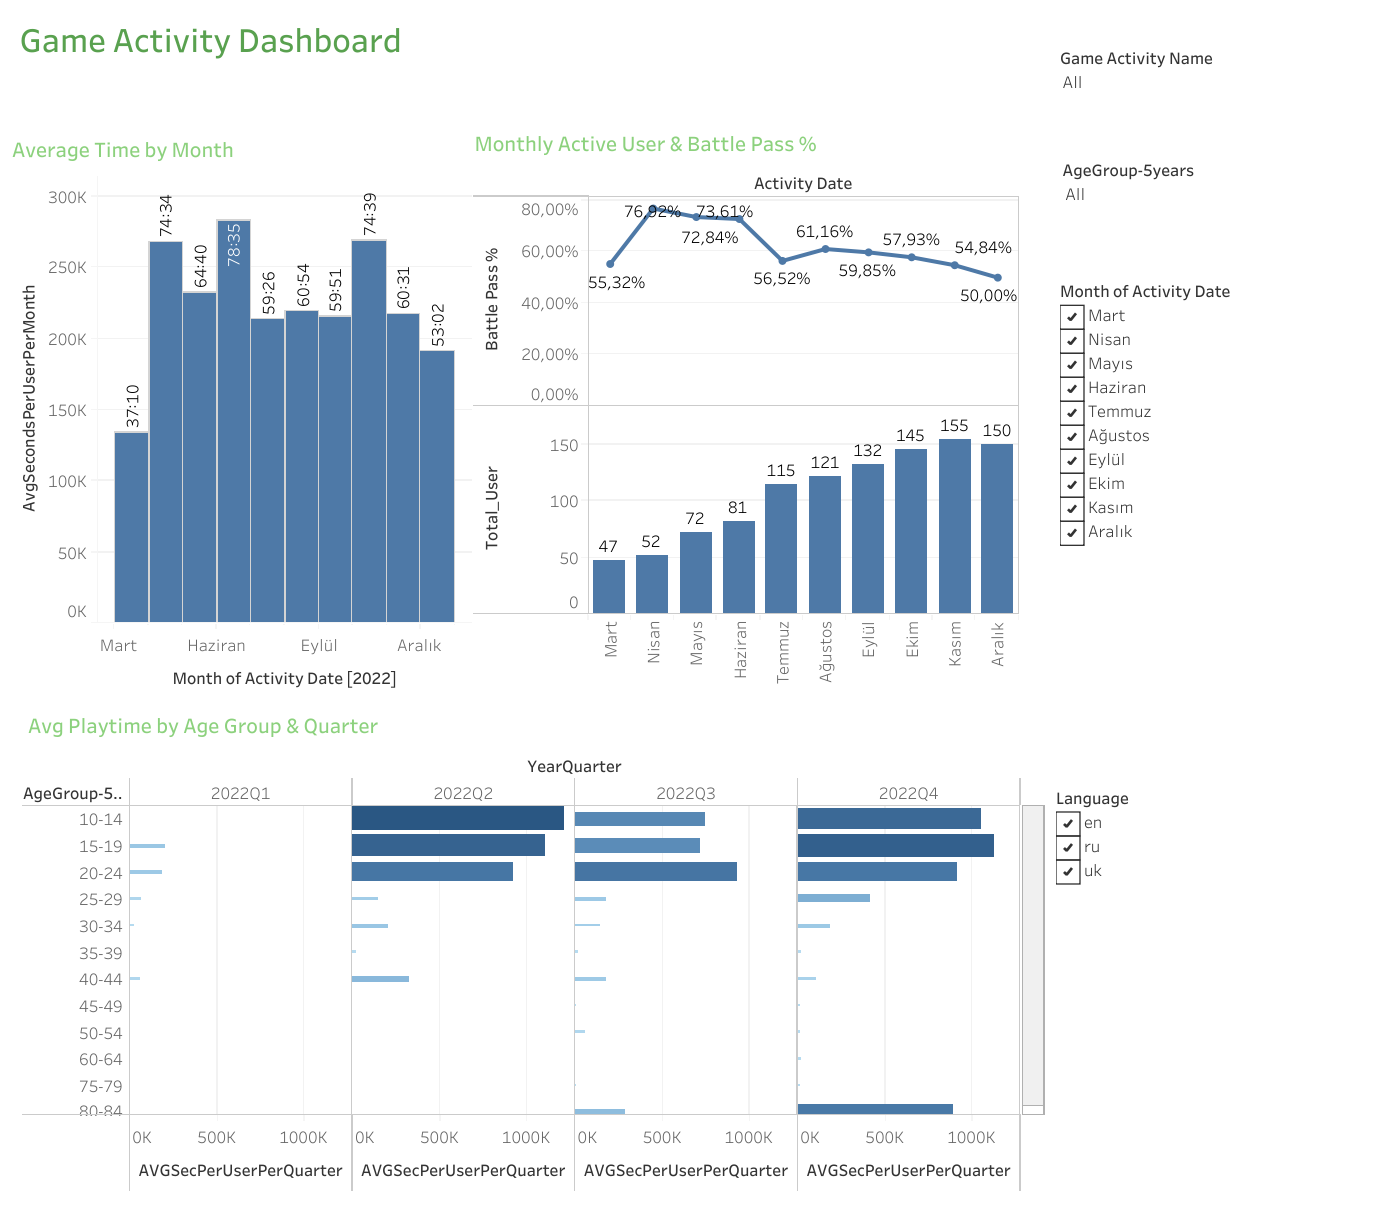

Layout of this report page (visuals, bound fields, positions):
{"tool":"tableau","page":{"name":"Dashboard 1","canvas":[1000,1000],"units":"permille","ordinal":0},"visuals":[{"type":"title","box":[7.6,14.3,984.8,75]},{"type":"filter","title":"Sheet 3","param":"[federated.1601dkp1uzp9tr11tkn8y0ts8v9d].[none:game_activity_name:nk]","box":[757.3,35.8,224,80.2]},{"type":"worksheet","title":"Sheet 1","mark":"Automatic","rows":["Calculation_3803712160294547458","Calculation_3803712160293478400"],"cols":["activity_date"],"box":[335.2,97.4,393.5,466.7]},{"type":"worksheet","title":"Sheet 2","mark":"Bar","rows":["Calculation_3803712160297582596"],"cols":["activity_date"],"box":[4.5,102.6,333,465]},{"type":"filter","title":"Sheet 3","param":"[federated.1601dkp1uzp9tr11tkn8y0ts8v9d].[none:Calculation_3803712160299413510:n","box":[758.7,126.3,224,93.9]},{"type":"filter","title":"Sheet 3","param":"[federated.1601dkp1uzp9tr11tkn8y0ts8v9d].[mn:activity_date:ok]","box":[757.3,225.3,224,411.3]},{"type":"worksheet","title":"Sheet 3","mark":"Automatic","rows":["Calculation_3803712160299413510"],"cols":["Calculation_3803712160300630023","Calculation_3803712160301375497"],"box":[16,570,732,397.6]},{"type":"filter","title":"Sheet 3","param":"[federated.1601dkp1uzp9tr11tkn8y0ts8v9d].[none:language:nk]","box":[754.7,636.5,224,184.3]}]}

Visuals, with their boxes on the dashboard's canvas, which has no fixed pixel size, in thousandths of its width and height (x1, y1, x2, y2). These are canvas units, not pixel positions in the 1399x1231 screenshot, which may show the page scaled, cropped or inside an application window:
title: left=8, top=14, right=992, bottom=89
"Sheet 3" filter: left=757, top=36, right=981, bottom=116
"Sheet 1" worksheet: left=335, top=97, right=729, bottom=564
"Sheet 2" worksheet (Bar marks): left=4, top=103, right=338, bottom=568
"Sheet 3" filter: left=759, top=126, right=983, bottom=220
"Sheet 3" filter: left=757, top=225, right=981, bottom=637
"Sheet 3" worksheet: left=16, top=570, right=748, bottom=968
"Sheet 3" filter: left=755, top=636, right=979, bottom=821
